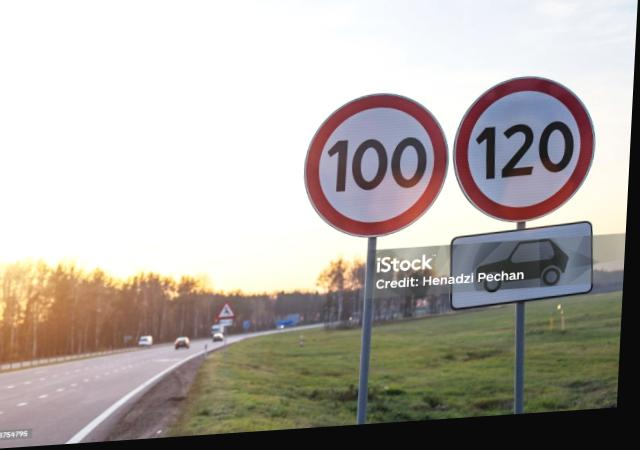limit100: (292, 88, 454, 248)
limit120: (452, 83, 605, 231)
